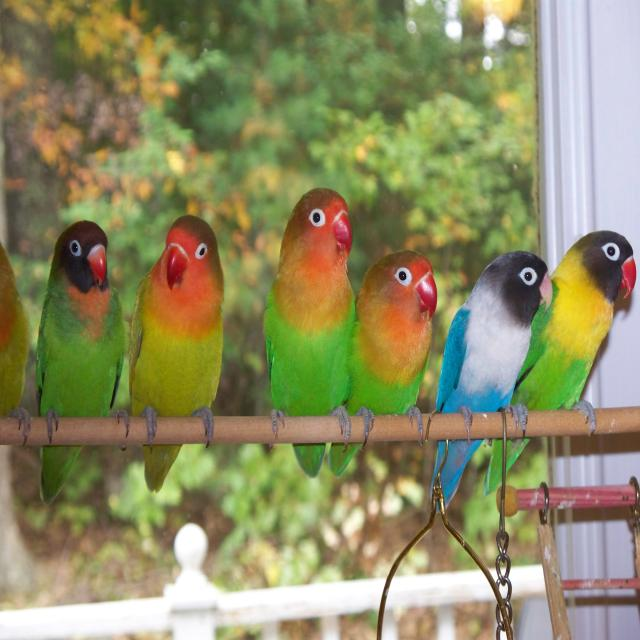bird: (428, 230, 561, 556), (259, 171, 368, 472), (535, 224, 638, 525), (130, 211, 229, 464), (24, 216, 129, 449), (358, 248, 428, 432)
